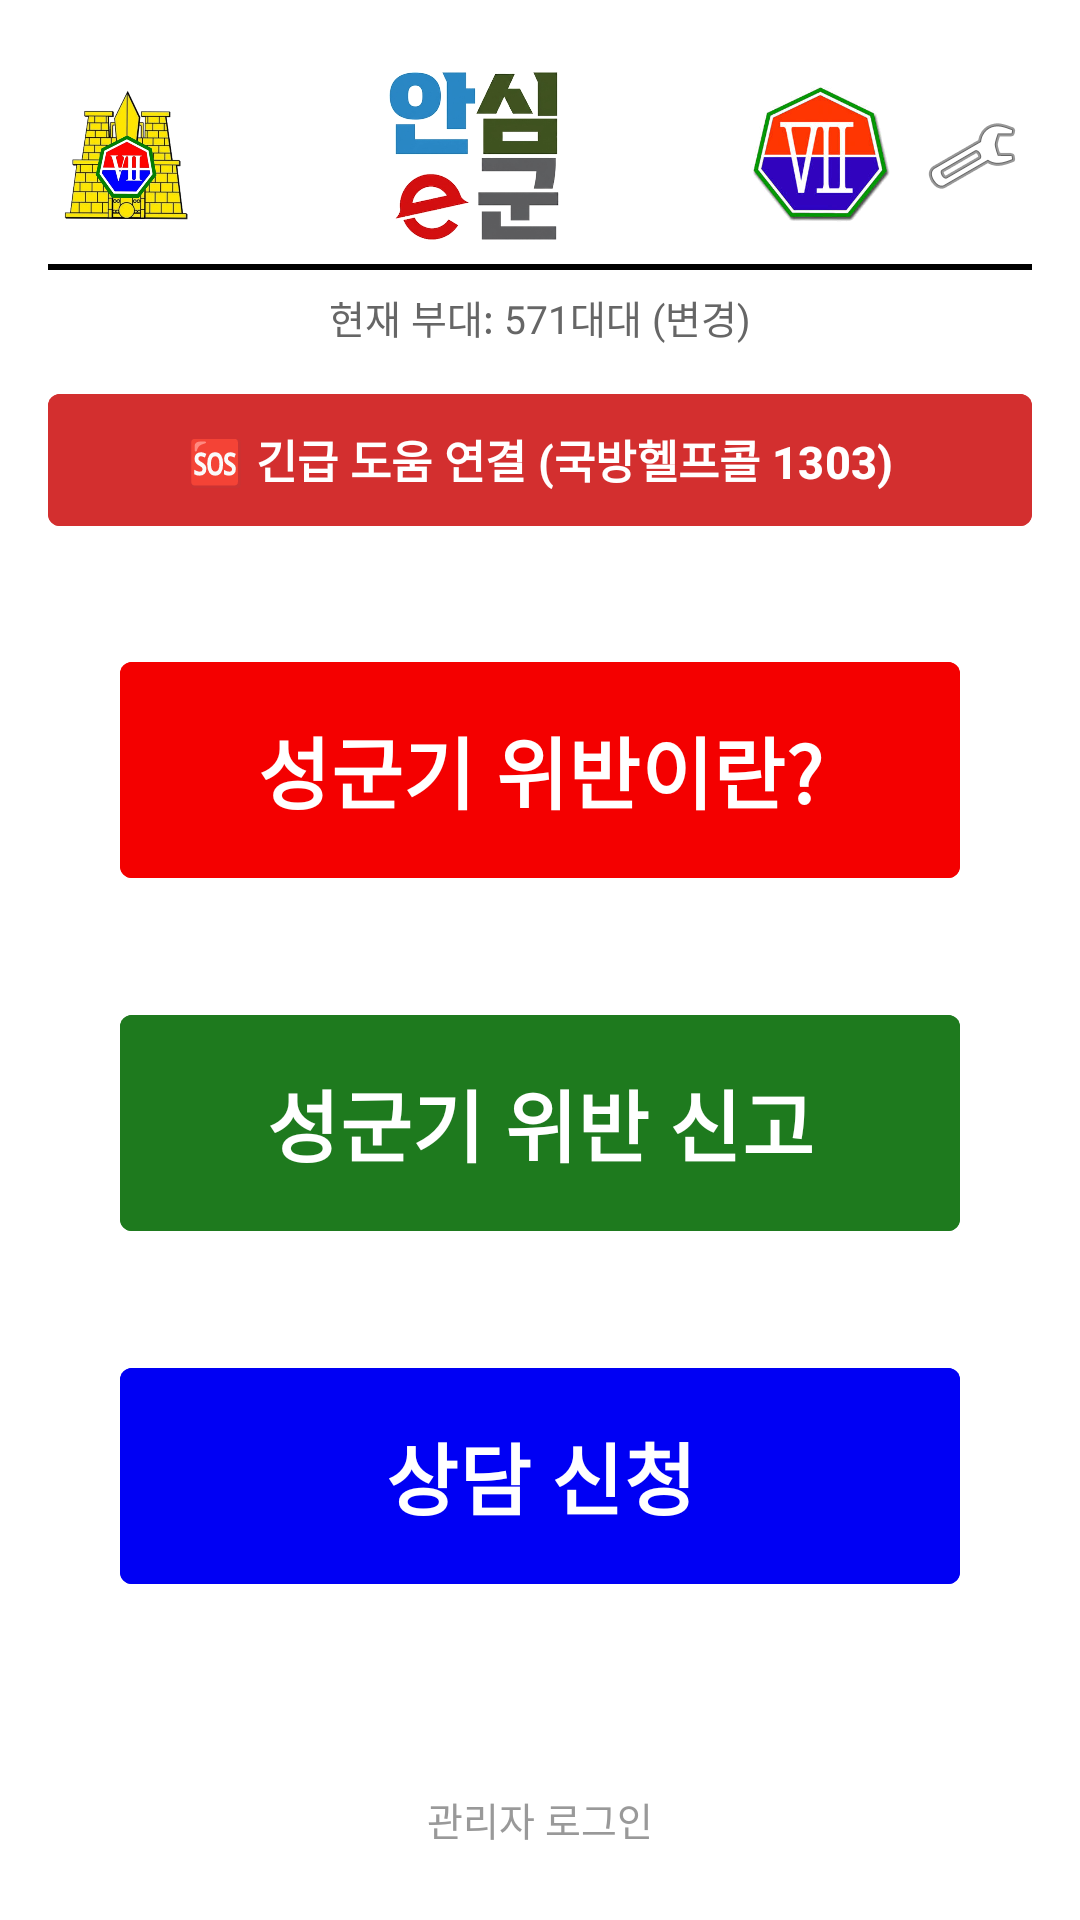

Icon click points for this 1080px×1920px phone screenshot, format (x,y):
설정: (972,156)
